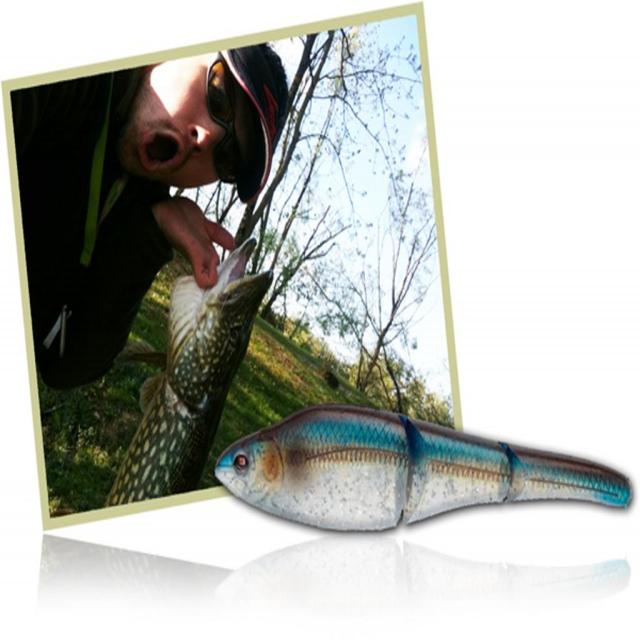nomask: (124, 55, 256, 197)
